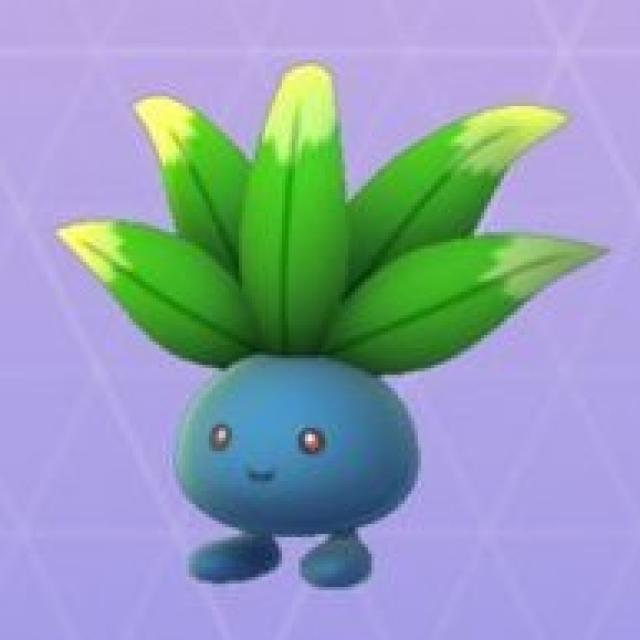Oddish: (126, 198, 447, 584)
